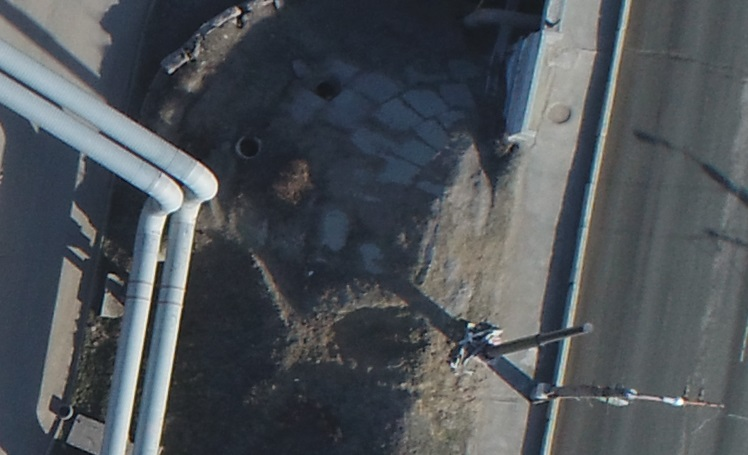opora: (481, 352, 704, 410)
